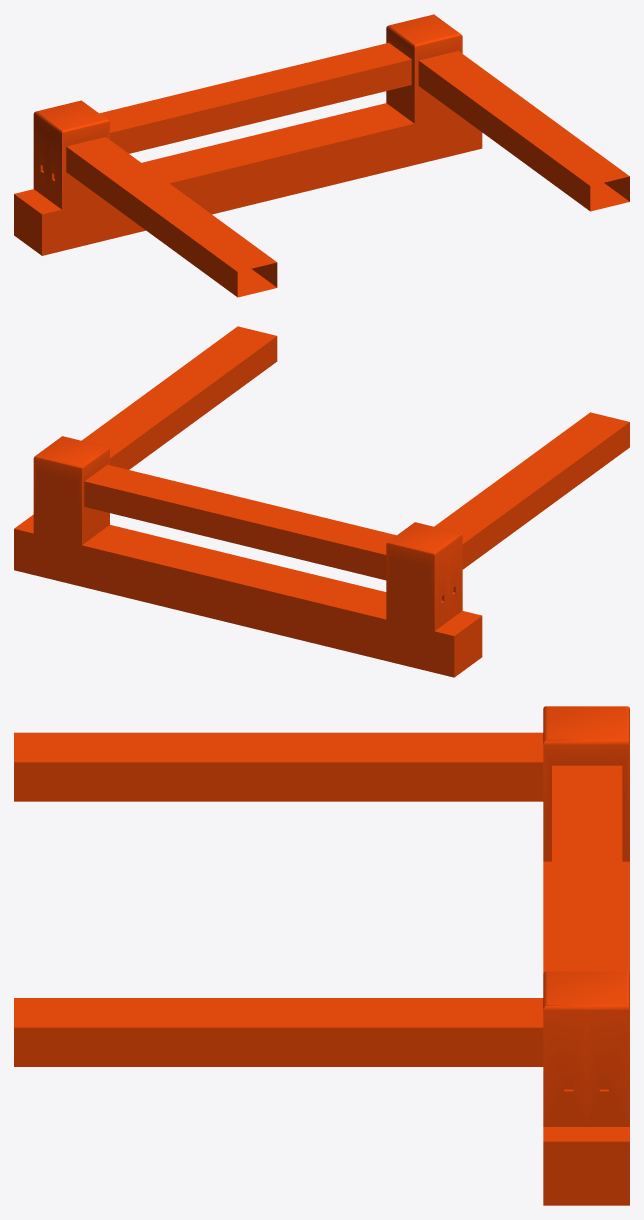
File: Shelf_06_End_Under_03.glb
3 views of the same model, one above another, from view 1: azimuth 30°, elevation 25°; view 2: azimuth 150°, elevation 25°; view 3: azimuth 270°, elevation 25° (orthographic). The views are drawn at different scales.
Parts seen in each view (by area): view 1: Mesh_Shelf_06_End_Under_03; view 2: Mesh_Shelf_06_End_Under_03; view 3: Mesh_Shelf_06_End_Under_03.
Part boxes in pixels (bbox=[...]): Mesh_Shelf_06_End_Under_03: bbox=[14, 14, 629, 297]; Mesh_Shelf_06_End_Under_03: bbox=[14, 326, 629, 677]; Mesh_Shelf_06_End_Under_03: bbox=[14, 706, 629, 1205].
Bounding box in the file's own units: 1.11 × 0.2884 × 0.8729.
Materials: 1 (1 with a texture image).
